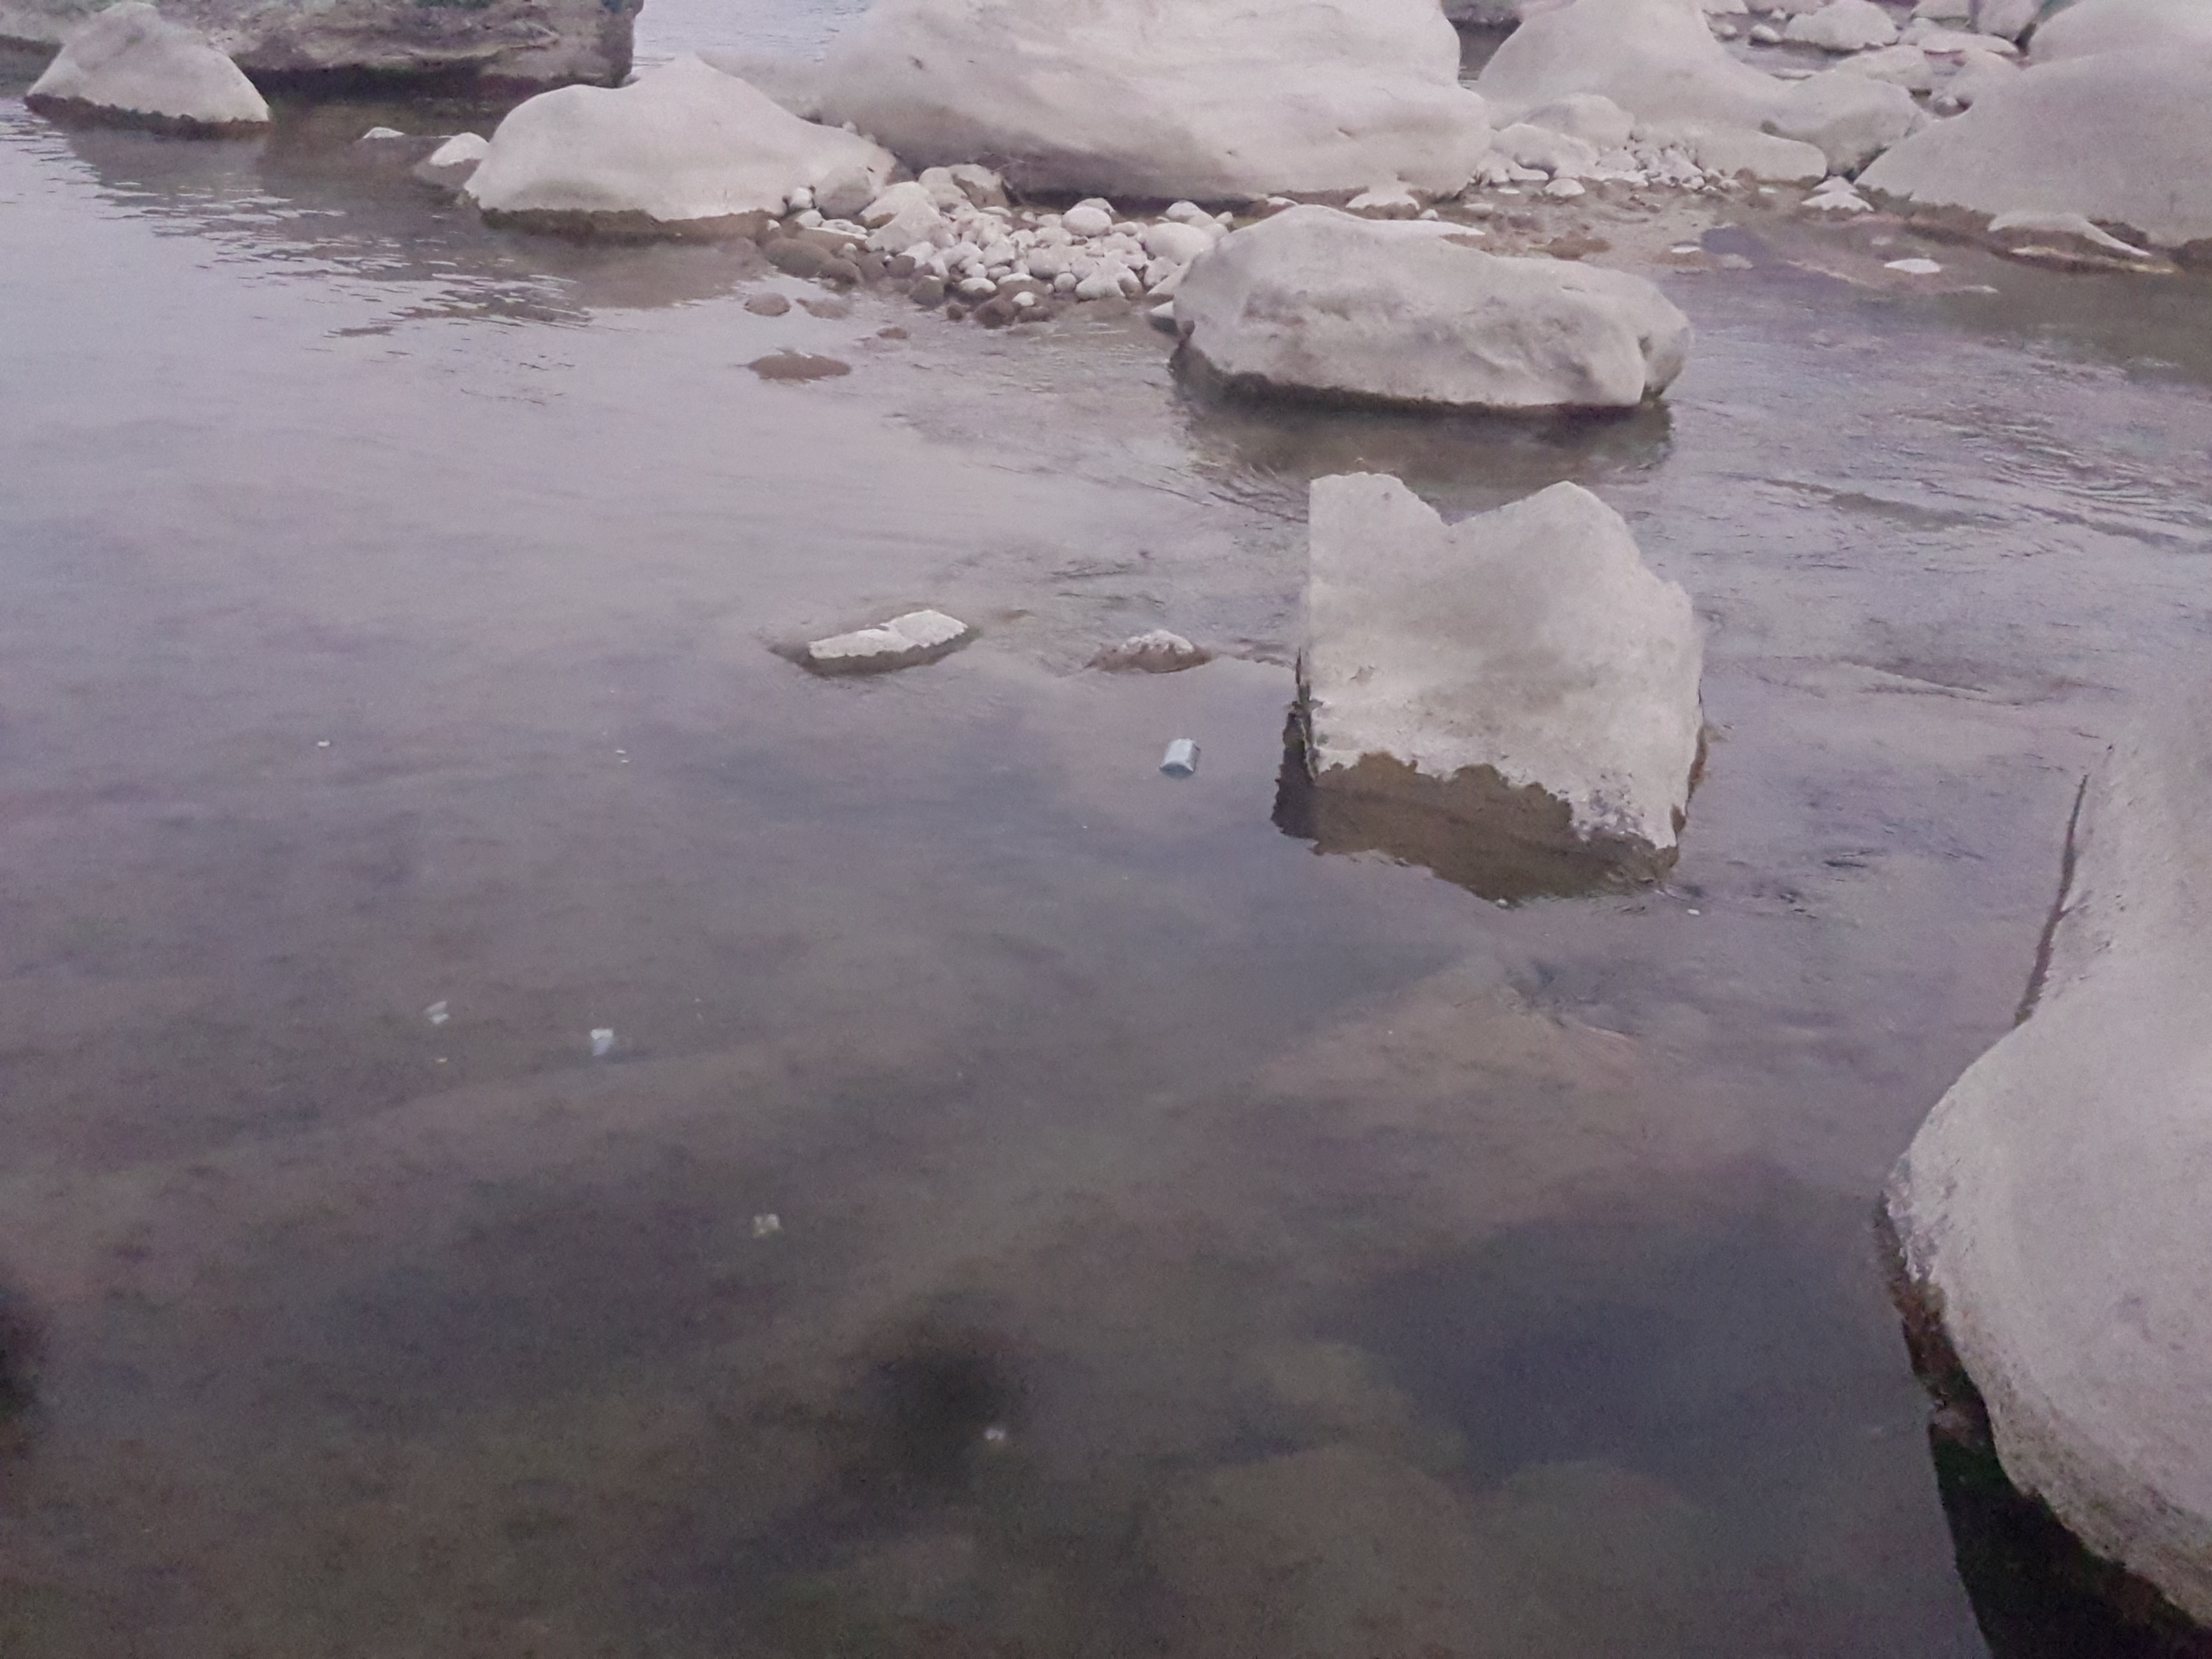Plastic Bottle: (1160, 737, 1200, 774)
